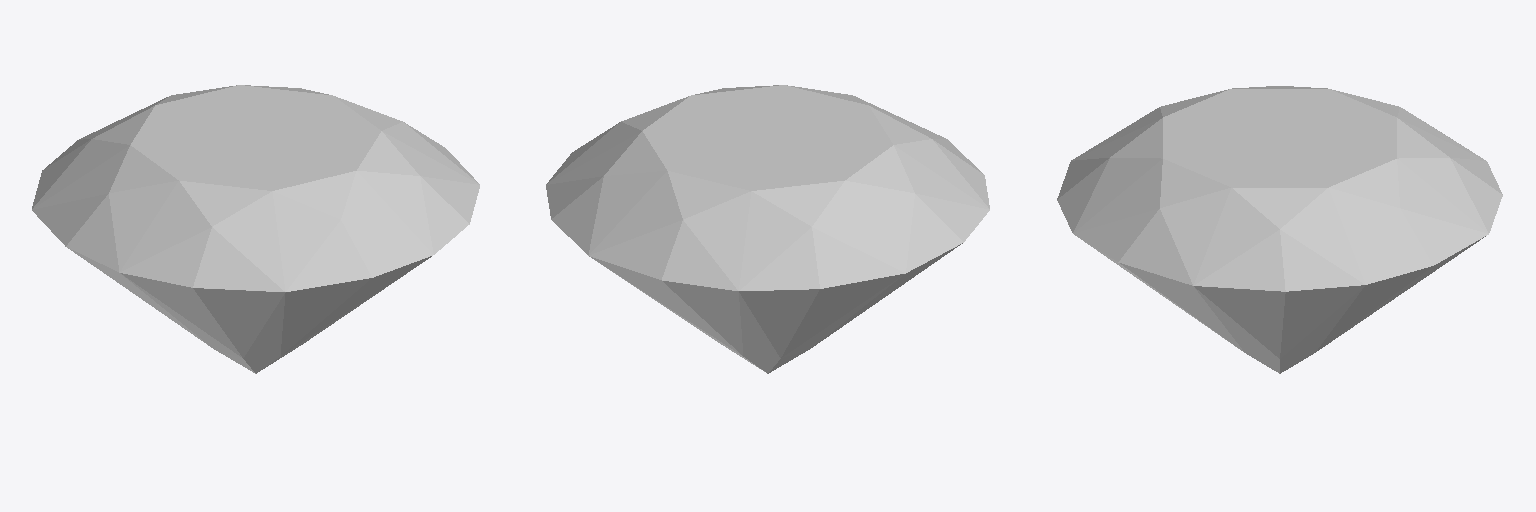
File: BrilliantDiamond.obj
The picture shows the model from 3 angles: view 1: azimuth 30°, elevation 25°; view 2: azimuth 150°, elevation 25°; view 3: azimuth 270°, elevation 25°; orthographic projection.
Bounding box in the file's own units: 1.97 × 1.15 × 1.97.